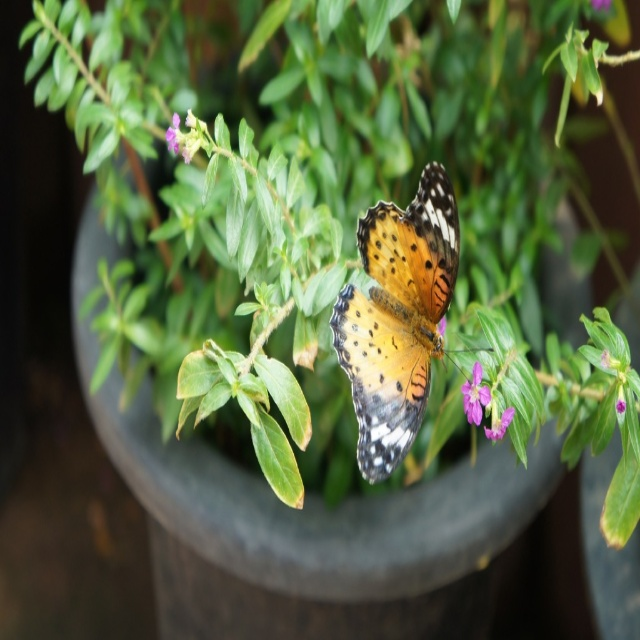Butterfly: (332, 169, 467, 486)
